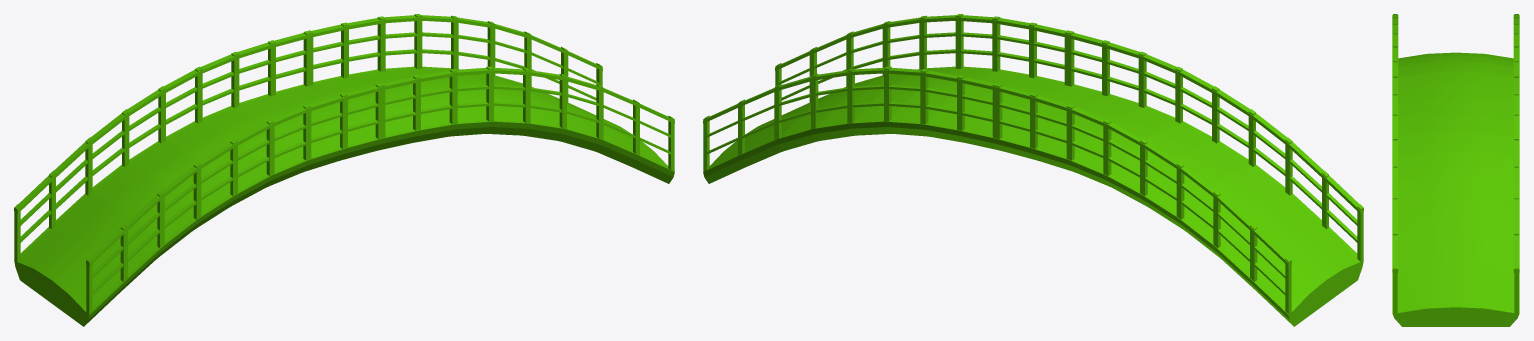
File: Bridge.FBX
The picture shows the model from 3 angles, left to right: view 1: azimuth 30°, elevation 25°; view 2: azimuth 150°, elevation 25°; view 3: azimuth 270°, elevation 25°; orthographic projection. The views are drawn at different scales.
Visible parts, largest first — view 1: Bridge; view 2: Bridge; view 3: Bridge.
Part boxes in pixels (box(x1,y1,x2,y2)): Bridge: box(14, 14, 674, 326); Bridge: box(703, 14, 1363, 326); Bridge: box(1392, 14, 1519, 326).
Size of the model in its own units: 354 by 101 by 79.12.
